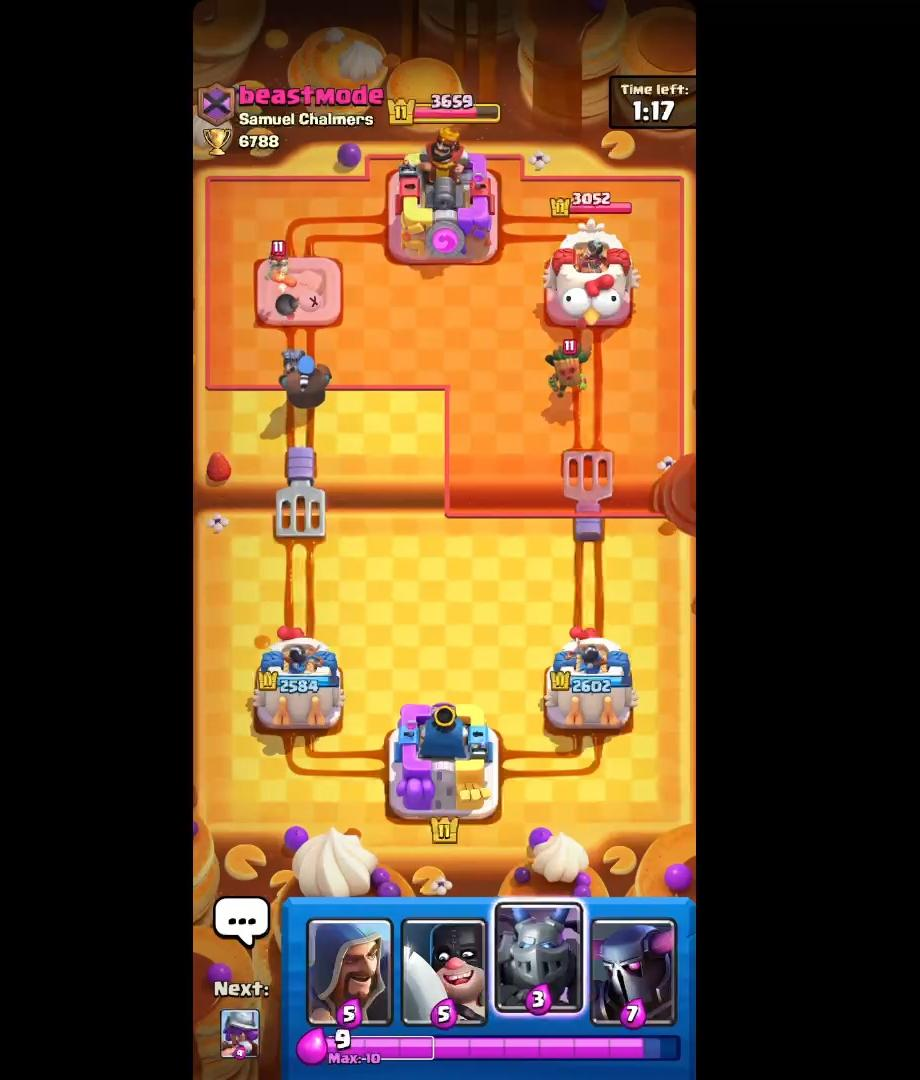Dart Goblin: (549, 334, 593, 401)
